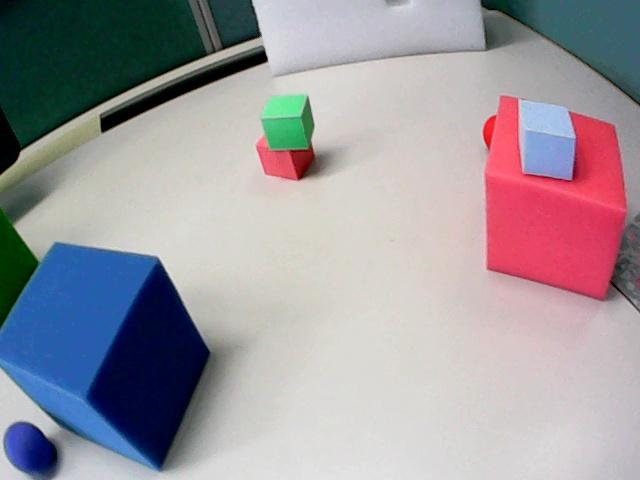blue_block: (0, 243, 208, 468), (519, 100, 575, 179), (0, 107, 20, 172)
red_block: (485, 96, 625, 298), (256, 136, 313, 179)
